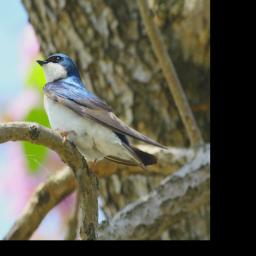Swallow: (36, 53, 170, 181)
